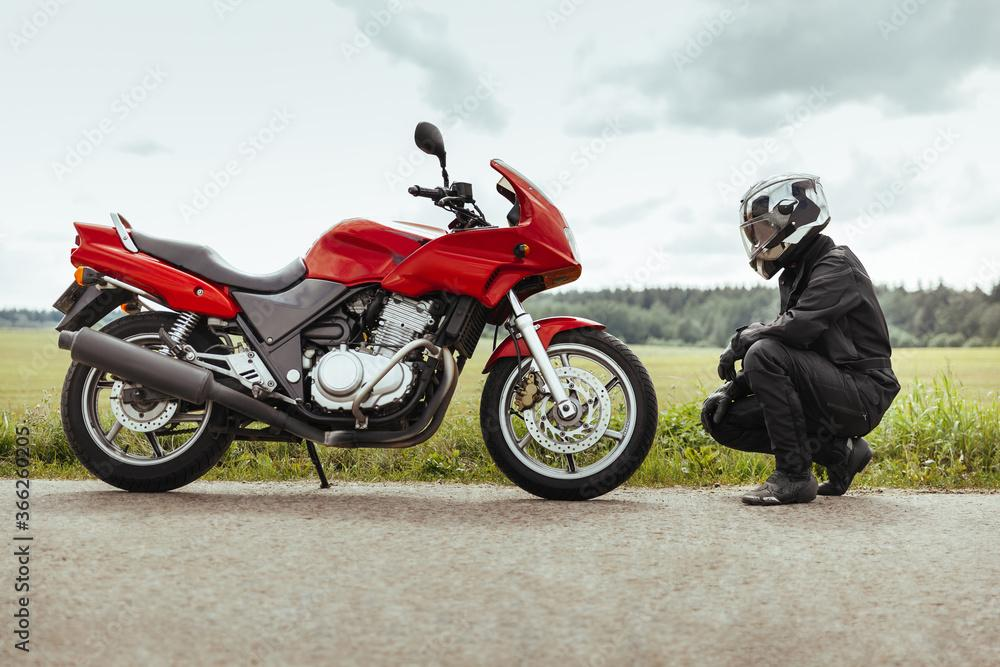helmet: (738, 171, 832, 281)
